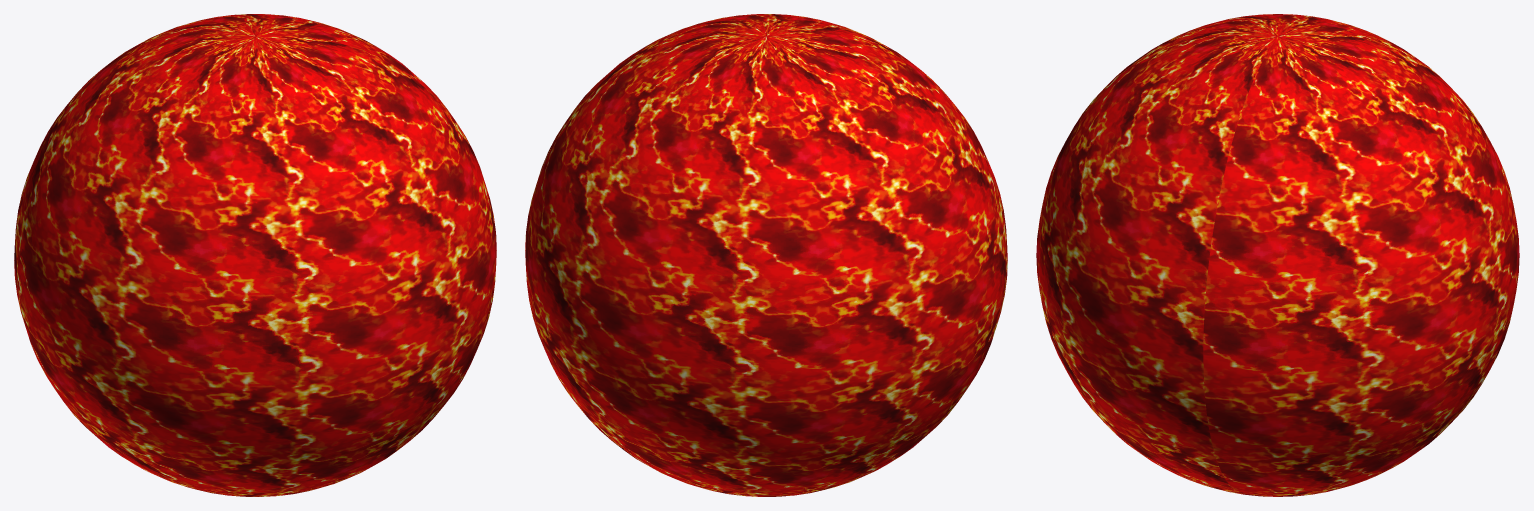
Rendered from HellWaterfallMegaPlanet.obj.
3 renders of one model, left to right at view 1: azimuth 30°, elevation 25°; view 2: azimuth 150°, elevation 25°; view 3: azimuth 270°, elevation 25°, orthographic.
Visible parts, largest first — view 1: mesh-0_meshId0_name; view 2: mesh-0_meshId0_name; view 3: mesh-0_meshId0_name.
Boxes of the visible parts, left/top/right/bottom form: mesh-0_meshId0_name: left=14, top=14, right=496, bottom=496; mesh-0_meshId0_name: left=525, top=14, right=1007, bottom=496; mesh-0_meshId0_name: left=1036, top=14, right=1519, bottom=496.
Size of the model in its own units: 7900 by 7900 by 7900.
1 material, 1 textured.
